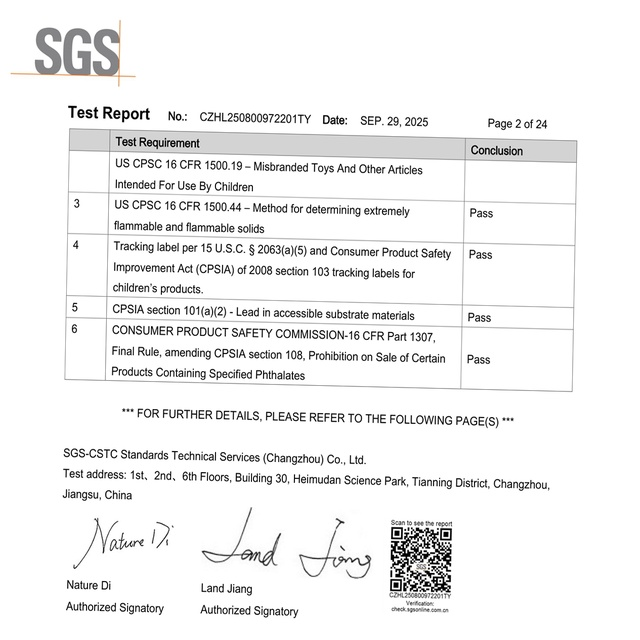sgs: (34, 27, 120, 77)
